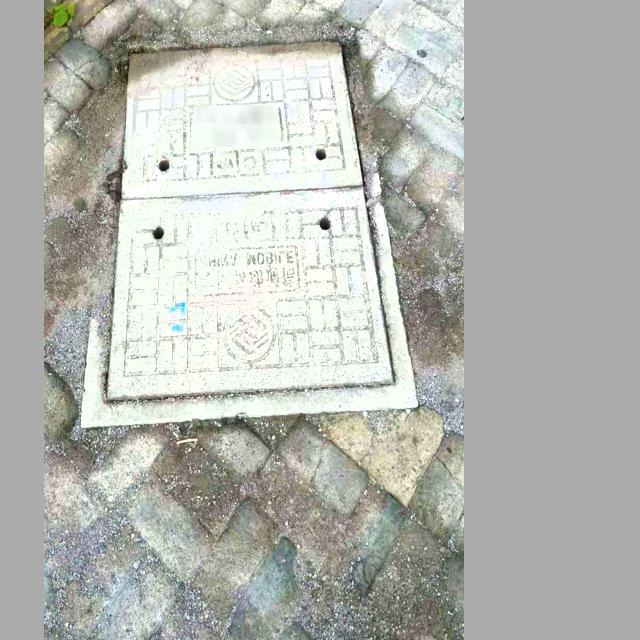good: (82, 20, 419, 430)
